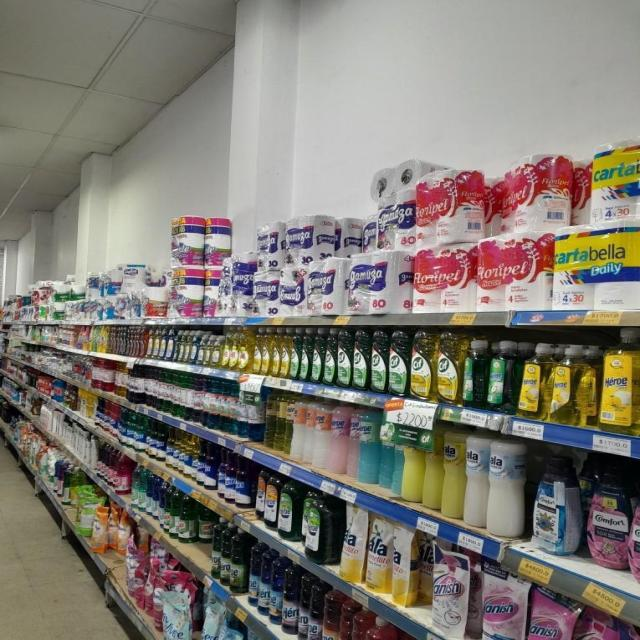ala_crem_amarillo: (442, 423, 464, 520), (423, 419, 442, 512)
ala_crem_blanco: (488, 431, 528, 540), (465, 426, 487, 530)
ala_sachet_amarillo: (340, 503, 366, 584)
cif_conc_bot_amarilla: (436, 329, 462, 405), (410, 326, 435, 401), (281, 328, 290, 378), (263, 327, 271, 376), (272, 328, 280, 377), (256, 327, 264, 376)
cif_conc_botella_verde: (388, 327, 408, 396), (370, 326, 387, 394), (352, 326, 368, 391), (337, 325, 352, 389), (324, 327, 336, 386), (311, 326, 323, 384), (301, 328, 311, 382), (290, 327, 299, 380)
heroe: (357, 408, 378, 484), (330, 401, 348, 476), (313, 399, 330, 472), (348, 406, 360, 484), (304, 397, 314, 467)
